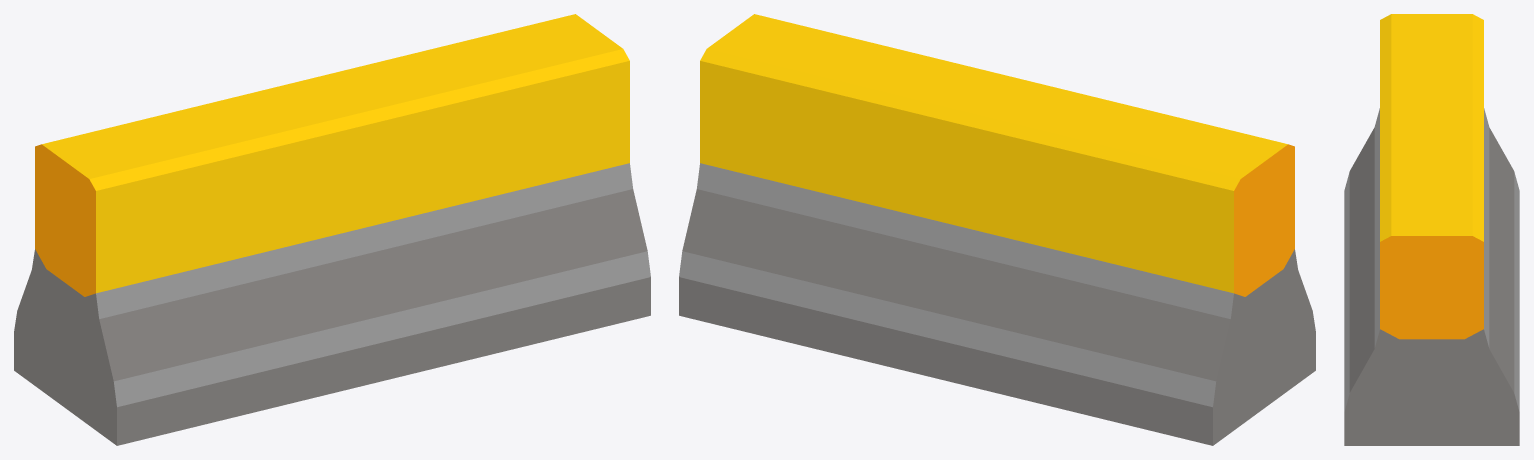
Rendered from Barrier.glb.
3 views of the same model, side by side, from view 1: azimuth 30°, elevation 25°; view 2: azimuth 150°, elevation 25°; view 3: azimuth 270°, elevation 25° (orthographic). The views are drawn at different scales.
Parts seen in each view (by area): view 1: CHUNK_2, CHUNK_3, CHUNK_4, CHUNK_1; view 2: CHUNK_3, CHUNK_2, CHUNK_4; view 3: CHUNK_1, CHUNK_3, CHUNK_2, CHUNK_4.
Part boxes in pixels (box(x1,y1,x2,y2)): CHUNK_2: box(338, 14, 613, 386); CHUNK_3: box(70, 68, 381, 414); CHUNK_4: box(14, 137, 258, 445); CHUNK_1: box(503, 39, 650, 324); CHUNK_3: box(840, 78, 1231, 410); CHUNK_2: box(679, 23, 1015, 354); CHUNK_4: box(1056, 130, 1315, 445); CHUNK_1: box(1344, 204, 1519, 445); CHUNK_3: box(1344, 25, 1519, 340); CHUNK_2: box(1344, 127, 1519, 411); CHUNK_4: box(1344, 14, 1519, 254).
Size of the model in its own units: 2 by 0.8825 by 0.6683.
